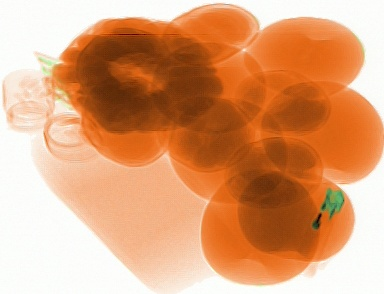lighter: (296, 182, 343, 264)
